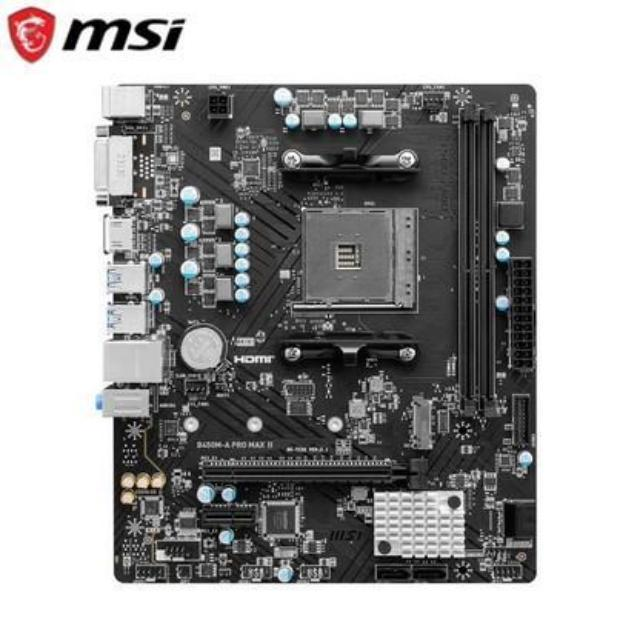Mainboard: (89, 69, 546, 597)
